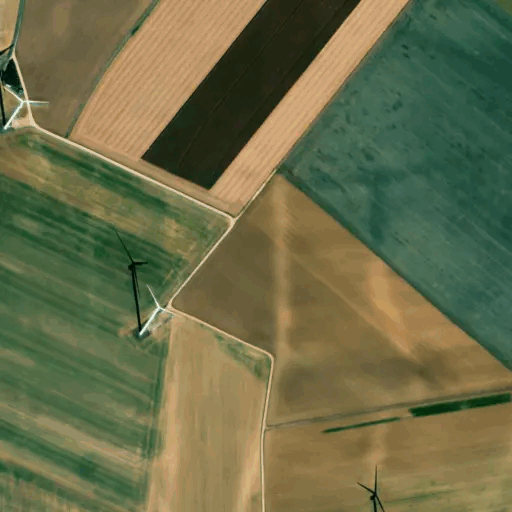wt: (107, 223, 185, 342), (1, 64, 51, 133)
